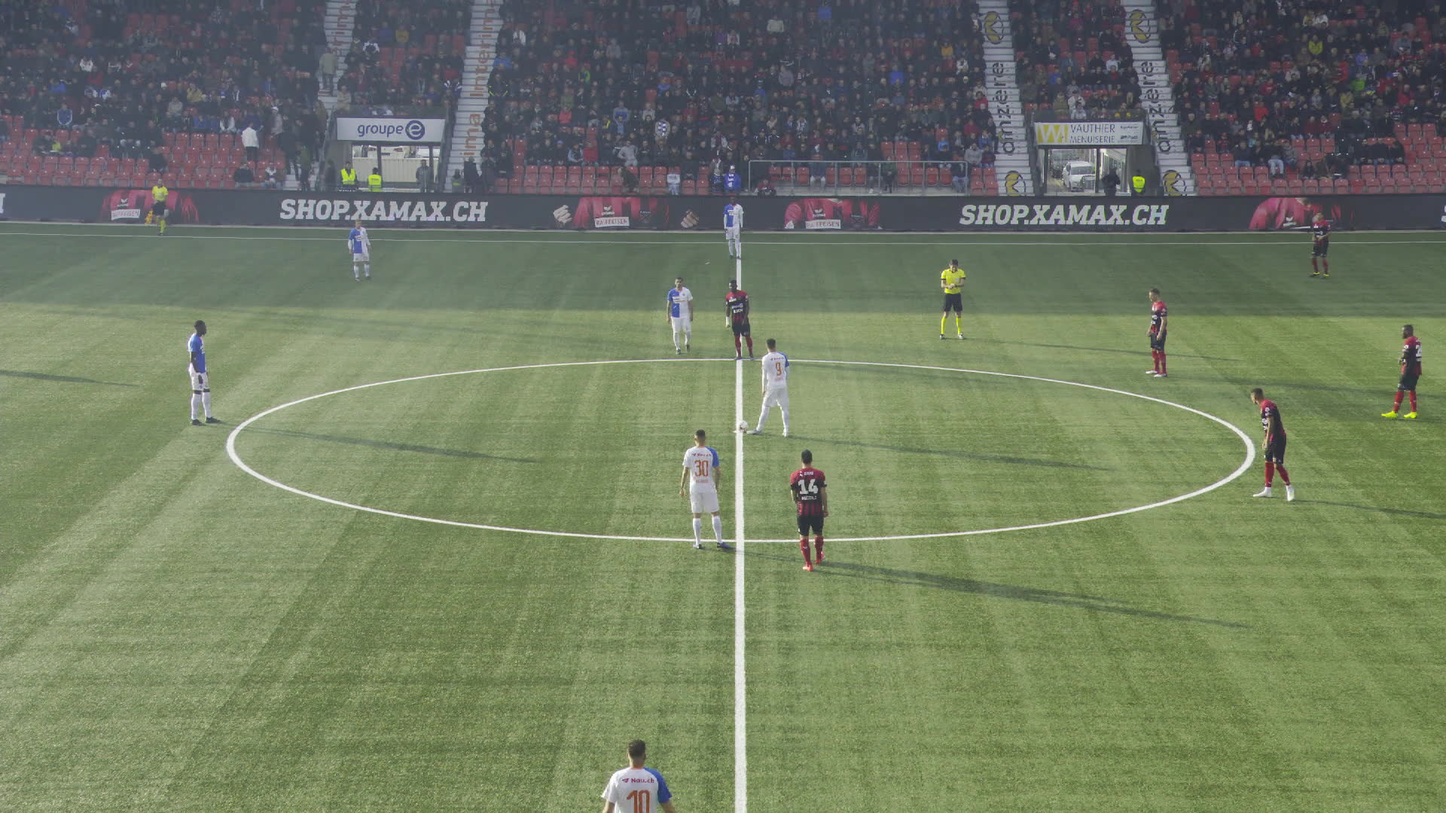ball: (736, 420, 748, 432)
player: (680, 429, 731, 548), (599, 738, 675, 811), (1250, 388, 1296, 501), (789, 446, 828, 570), (746, 337, 789, 435), (1383, 324, 1420, 419), (188, 320, 221, 425), (724, 279, 753, 360), (665, 276, 692, 354), (1146, 288, 1167, 376), (1307, 209, 1332, 276), (348, 218, 373, 281), (722, 194, 743, 258)
referee: (939, 258, 966, 338), (151, 176, 169, 235)
